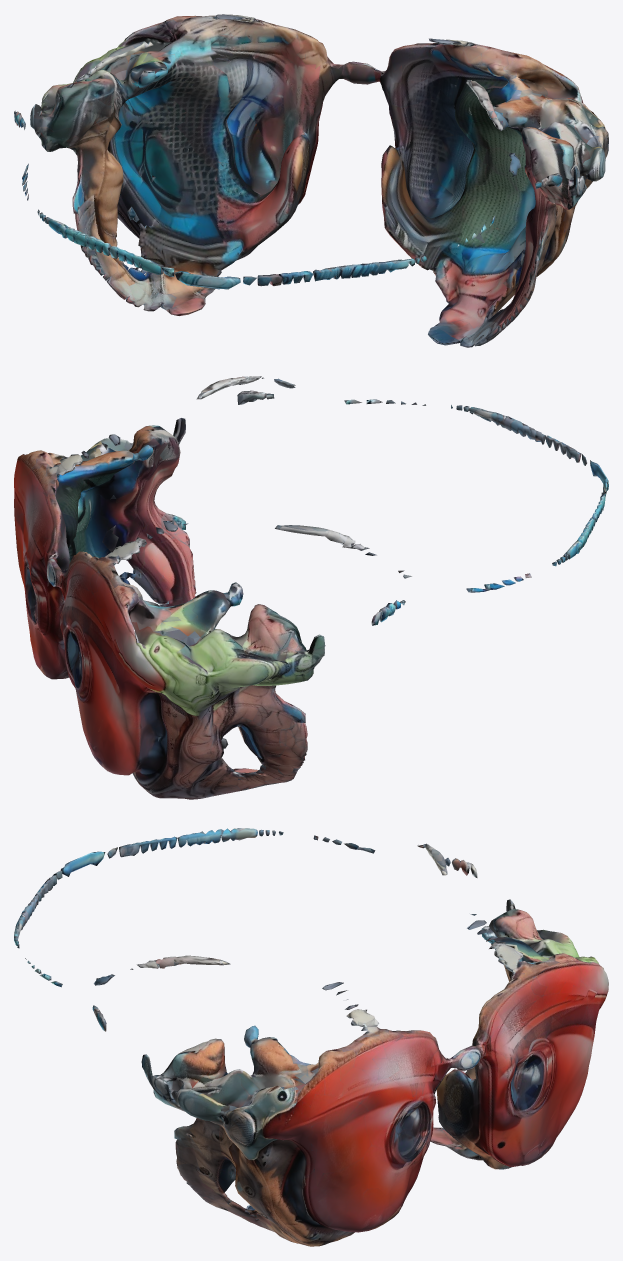
File: brain.glb
3 renders of one model, top to bottom at view 1: azimuth 30°, elevation 25°; view 2: azimuth 150°, elevation 25°; view 3: azimuth 270°, elevation 25°, orthographic. The views are drawn at different scales.
Bounding box in the file's own units: 1 × 0.4806 × 0.9925.
Materials: 1 (1 with a texture image).
